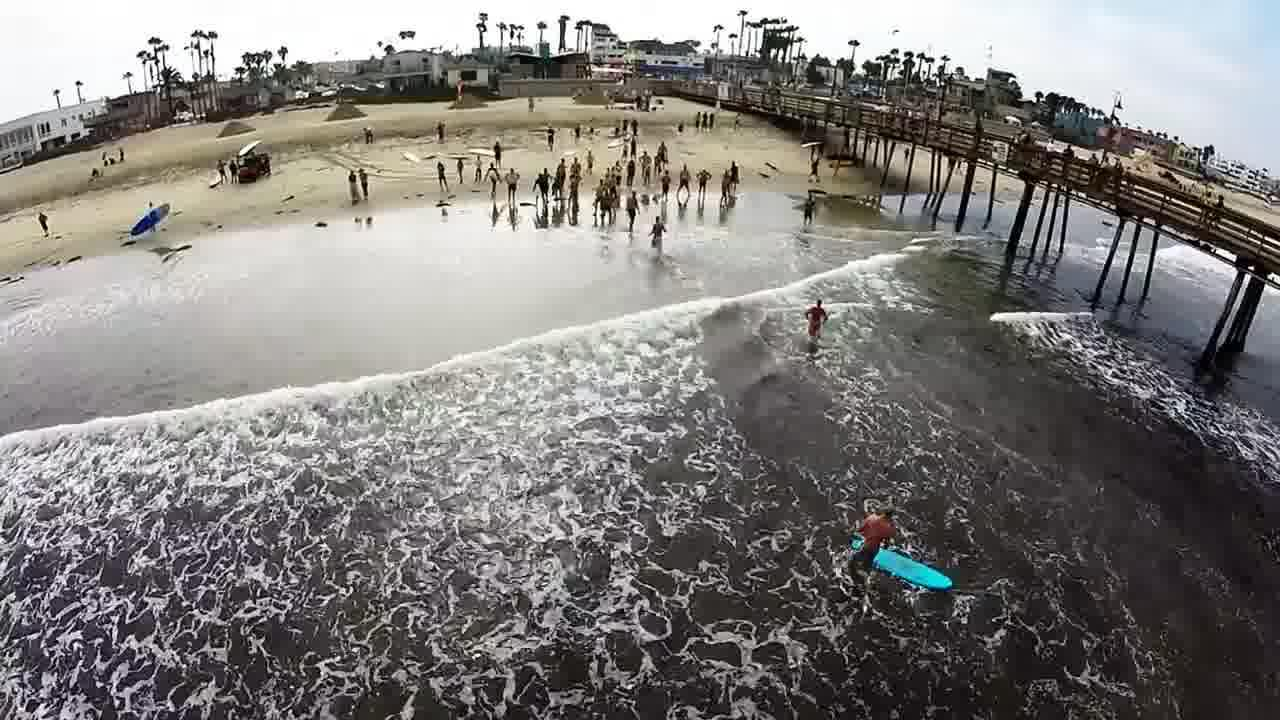human: (859, 506, 889, 564), (791, 298, 828, 337)
